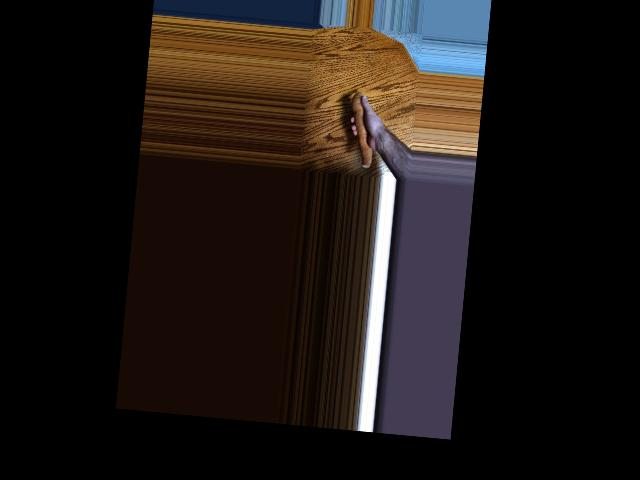sweet_potato: (345, 92, 379, 169)
